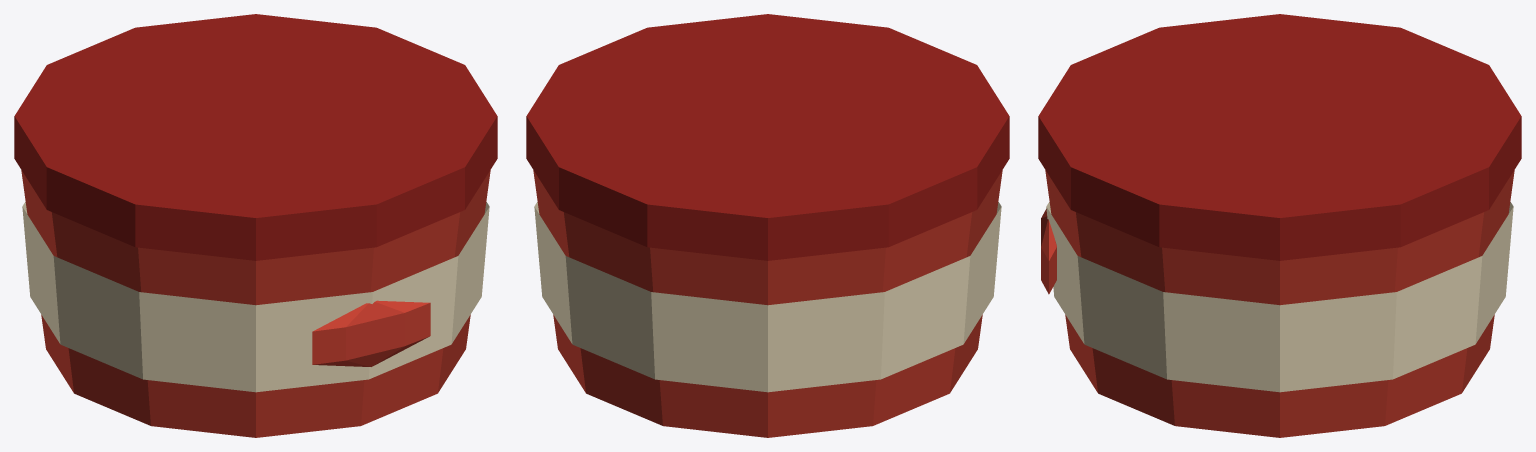
File: Food_Gochujang.obj
3 views of the same model, side by side, from view 1: azimuth 30°, elevation 25°; view 2: azimuth 150°, elevation 25°; view 3: azimuth 270°, elevation 25° (orthographic).
Size of the model in its own units: 1.84 by 0.98 by 1.84.
